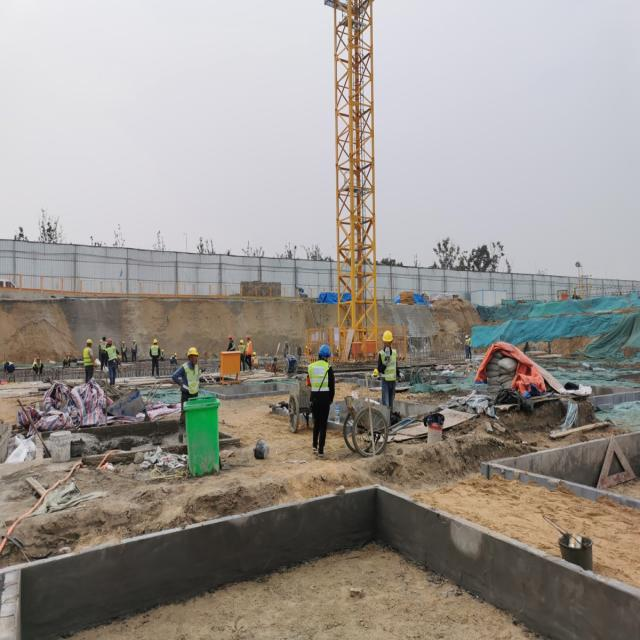crane: (323, 0, 378, 362)
